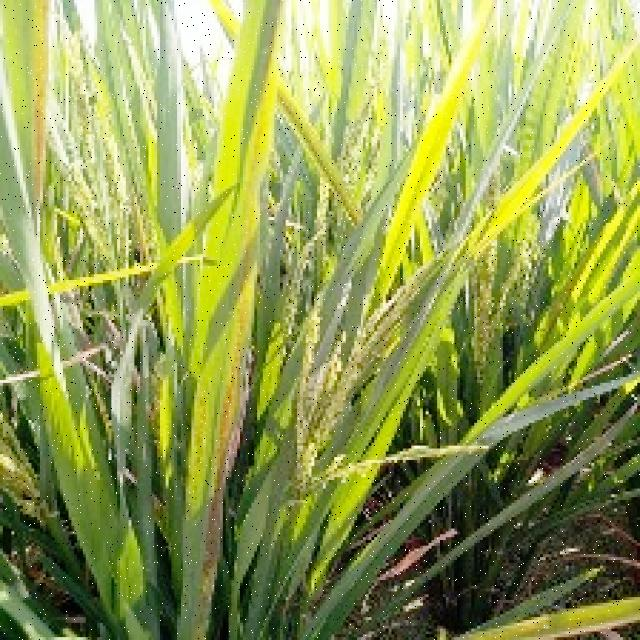health: (290, 0, 485, 354)
